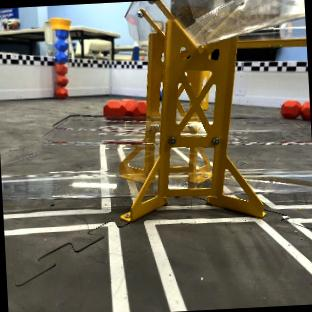Goal: (121, 0, 304, 221)
V5_RED: (103, 98, 145, 117), (282, 100, 310, 119), (55, 62, 66, 96)
